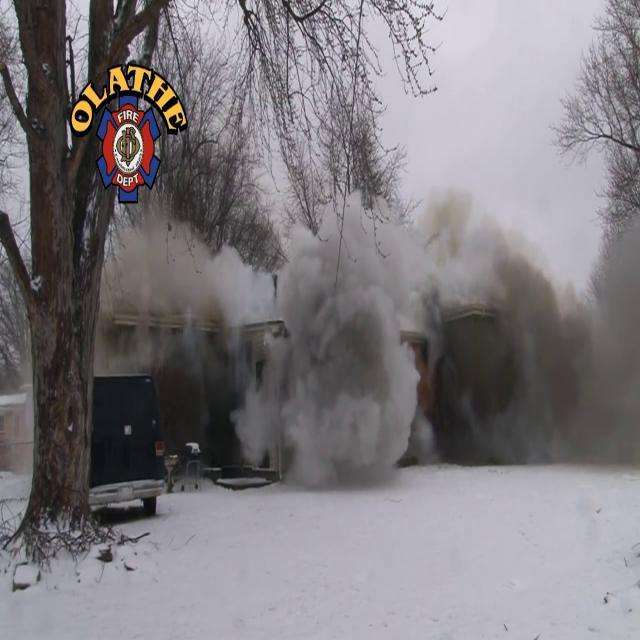Smoke: (224, 97, 640, 494), (91, 205, 251, 378)
